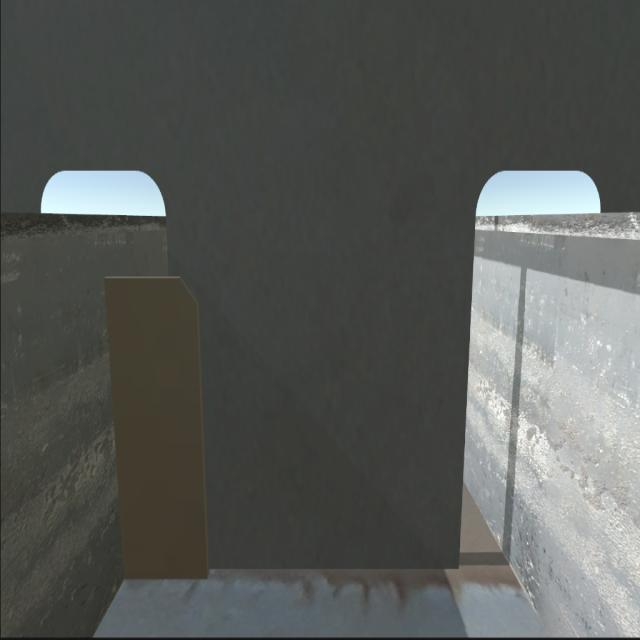fillet_yong_jeop_jang: (118, 556, 466, 593)
longi_yong_jeop_jang: (99, 266, 132, 585)
plate_CP03: (107, 276, 212, 574)
